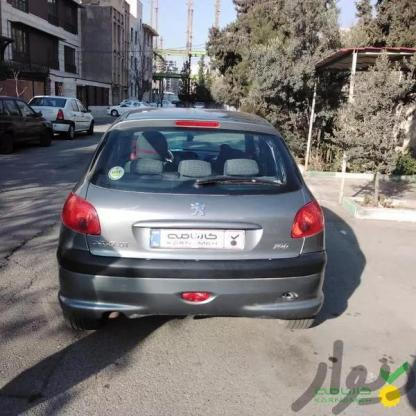Car: (57, 105, 339, 345), (0, 97, 51, 151), (35, 90, 95, 133), (107, 98, 151, 119)
